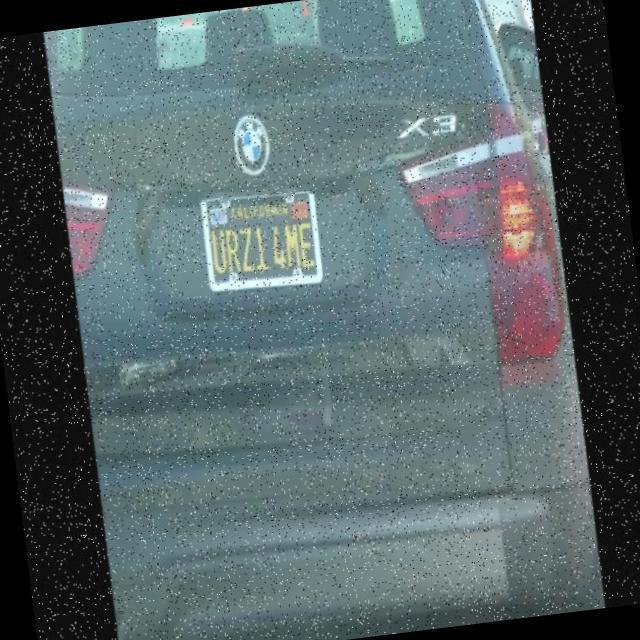license_plate: (200, 182, 322, 294)
